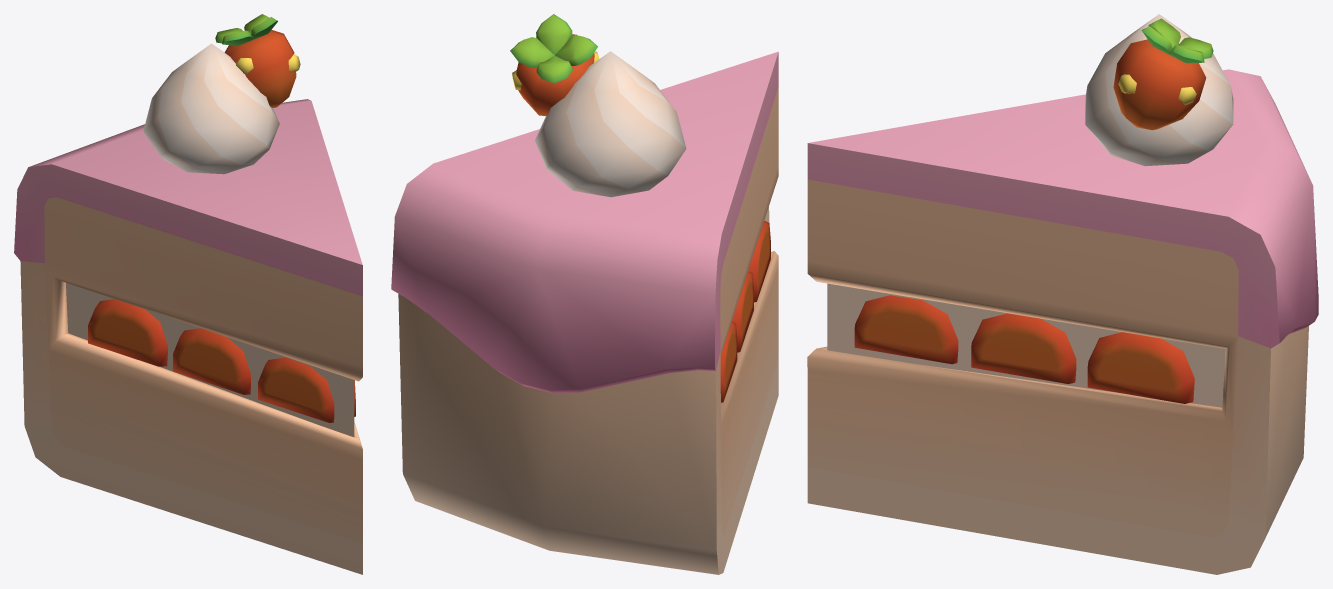
Rendered from Cake Strawberry Slic.glb.
3 views of the same model, side by side, from view 1: azimuth 30°, elevation 25°; view 2: azimuth 150°, elevation 25°; view 3: azimuth 270°, elevation 25° (orthographic). The views are drawn at different scales.
Visible parts, largest first — view 1: cake_strawberry_slice; view 2: cake_strawberry_slice; view 3: cake_strawberry_slice.
Boxes of the visible parts, <box> form: cake_strawberry_slice: <box>14,14,362,574</box>; cake_strawberry_slice: <box>391,14,778,574</box>; cake_strawberry_slice: <box>807,14,1318,574</box>.
Bounding box in the file's own units: 0.4668 × 0.6687 × 0.6102.
1 material, 1 textured.
